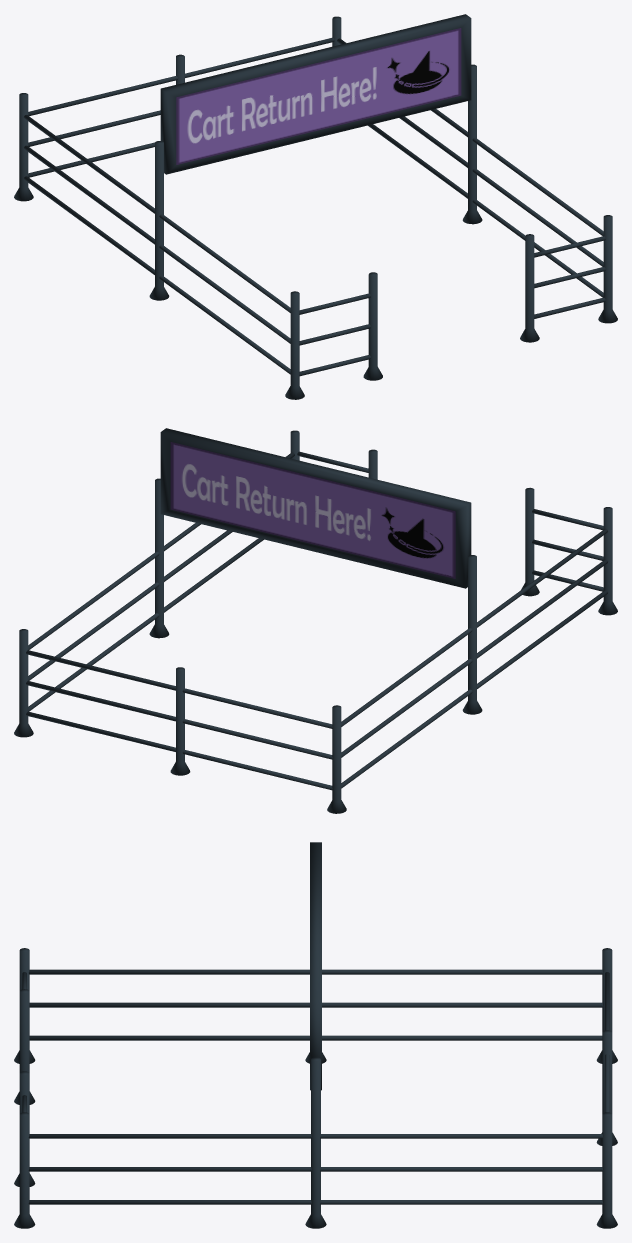
The model's file is cart return.fbx.
3 views of the same model, one above another, from view 1: azimuth 30°, elevation 25°; view 2: azimuth 150°, elevation 25°; view 3: azimuth 270°, elevation 25° (orthographic). The views are drawn at different scales.
Parts seen in each view (by area): view 1: Cart Return; view 2: Cart Return; view 3: Cart Return.
Boxes of the visible parts, bbox=[...] form: Cart Return: bbox=[14, 14, 617, 399]; Cart Return: bbox=[14, 428, 617, 813]; Cart Return: bbox=[14, 842, 617, 1228].
Bounding box in the file's own units: 844 × 1244 × 500.
